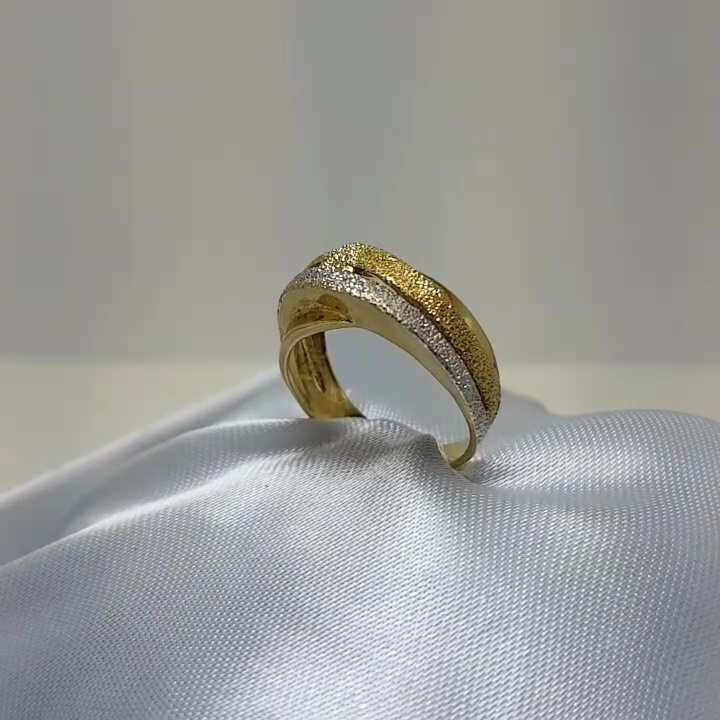Ring 5: (254, 205, 512, 504)
